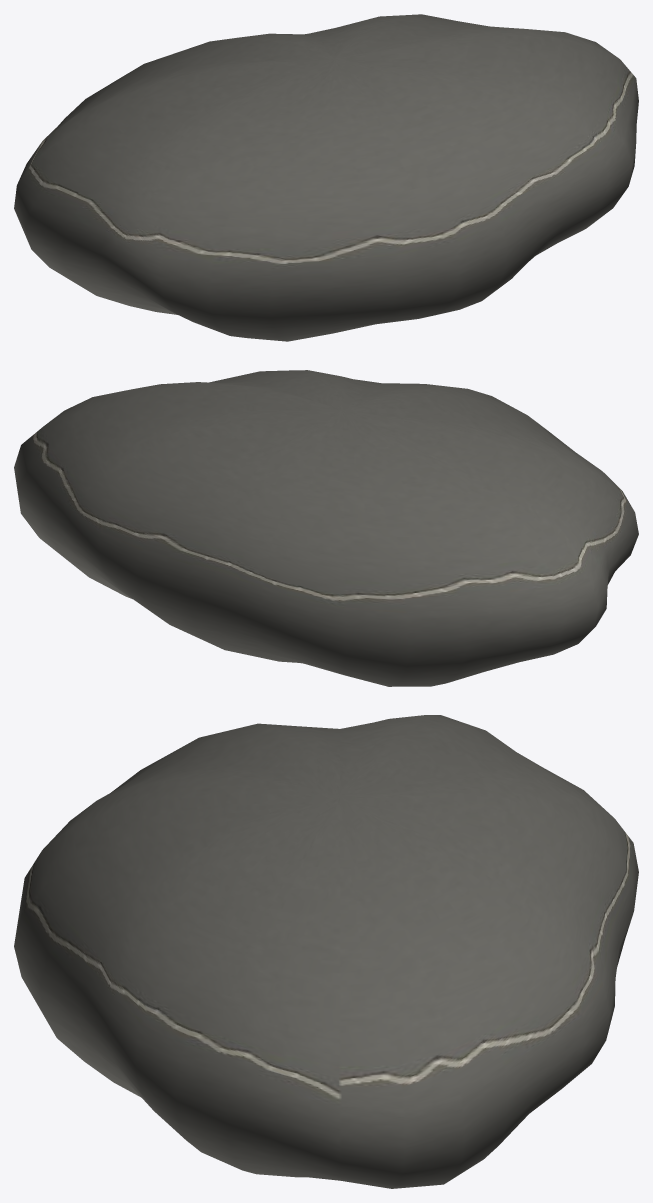
The model's file is river_stone_1.glb.
3 renders of one model, top to bottom at view 1: azimuth 30°, elevation 25°; view 2: azimuth 150°, elevation 25°; view 3: azimuth 270°, elevation 25°, orthographic. The views are drawn at different scales.
Size of the model in its own units: 2.66 by 0.9936 by 1.86.
1 material, 1 textured.
